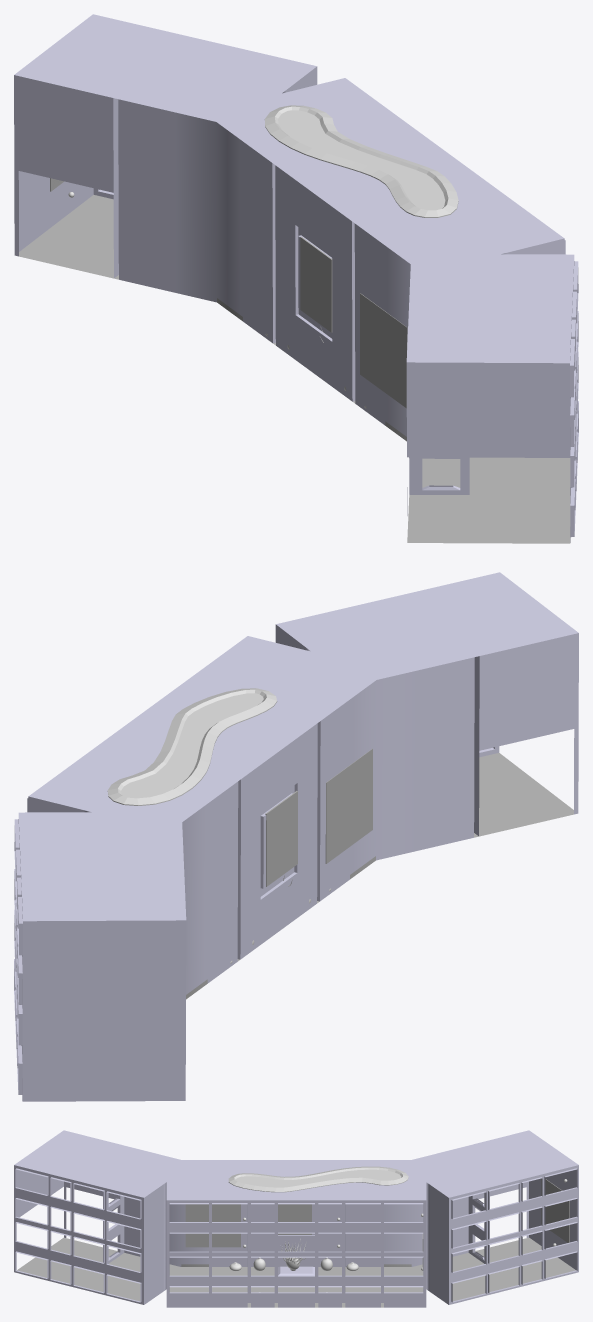
File: Hallway.fbx
The picture shows the model from 3 angles, top to bottom: view 1: azimuth 30°, elevation 25°; view 2: azimuth 150°, elevation 25°; view 3: azimuth 270°, elevation 25°; orthographic projection. The views are drawn at different scales.
Parts seen in each view (by area): view 1: Box001, Line008, Box003sd002, Box002; view 2: Box001, Line008, Box003sd002, Box002; view 3: Box001, Line008, Box003sd002, Box003sd001, Box002, Sphere001.
Boxes of the visible parts, box(x1,y1,x2,y2) form: Box001: box(14, 14, 578, 543); Line008: box(264, 105, 458, 217); Box003sd002: box(360, 293, 407, 408); Box002: box(300, 236, 332, 332); Box001: box(14, 572, 578, 1101); Line008: box(107, 688, 277, 805); Box003sd002: box(325, 748, 372, 863); Box002: box(265, 791, 297, 886); Box001: box(14, 1130, 578, 1307); Line008: box(228, 1166, 408, 1192); Box003sd002: box(185, 1204, 240, 1247); Box003sd001: box(541, 1178, 569, 1242); Box002: box(278, 1204, 311, 1234); Sphere001: box(281, 1238, 306, 1270).
Bounding box in the file's own units: 809 × 577 × 2688.
